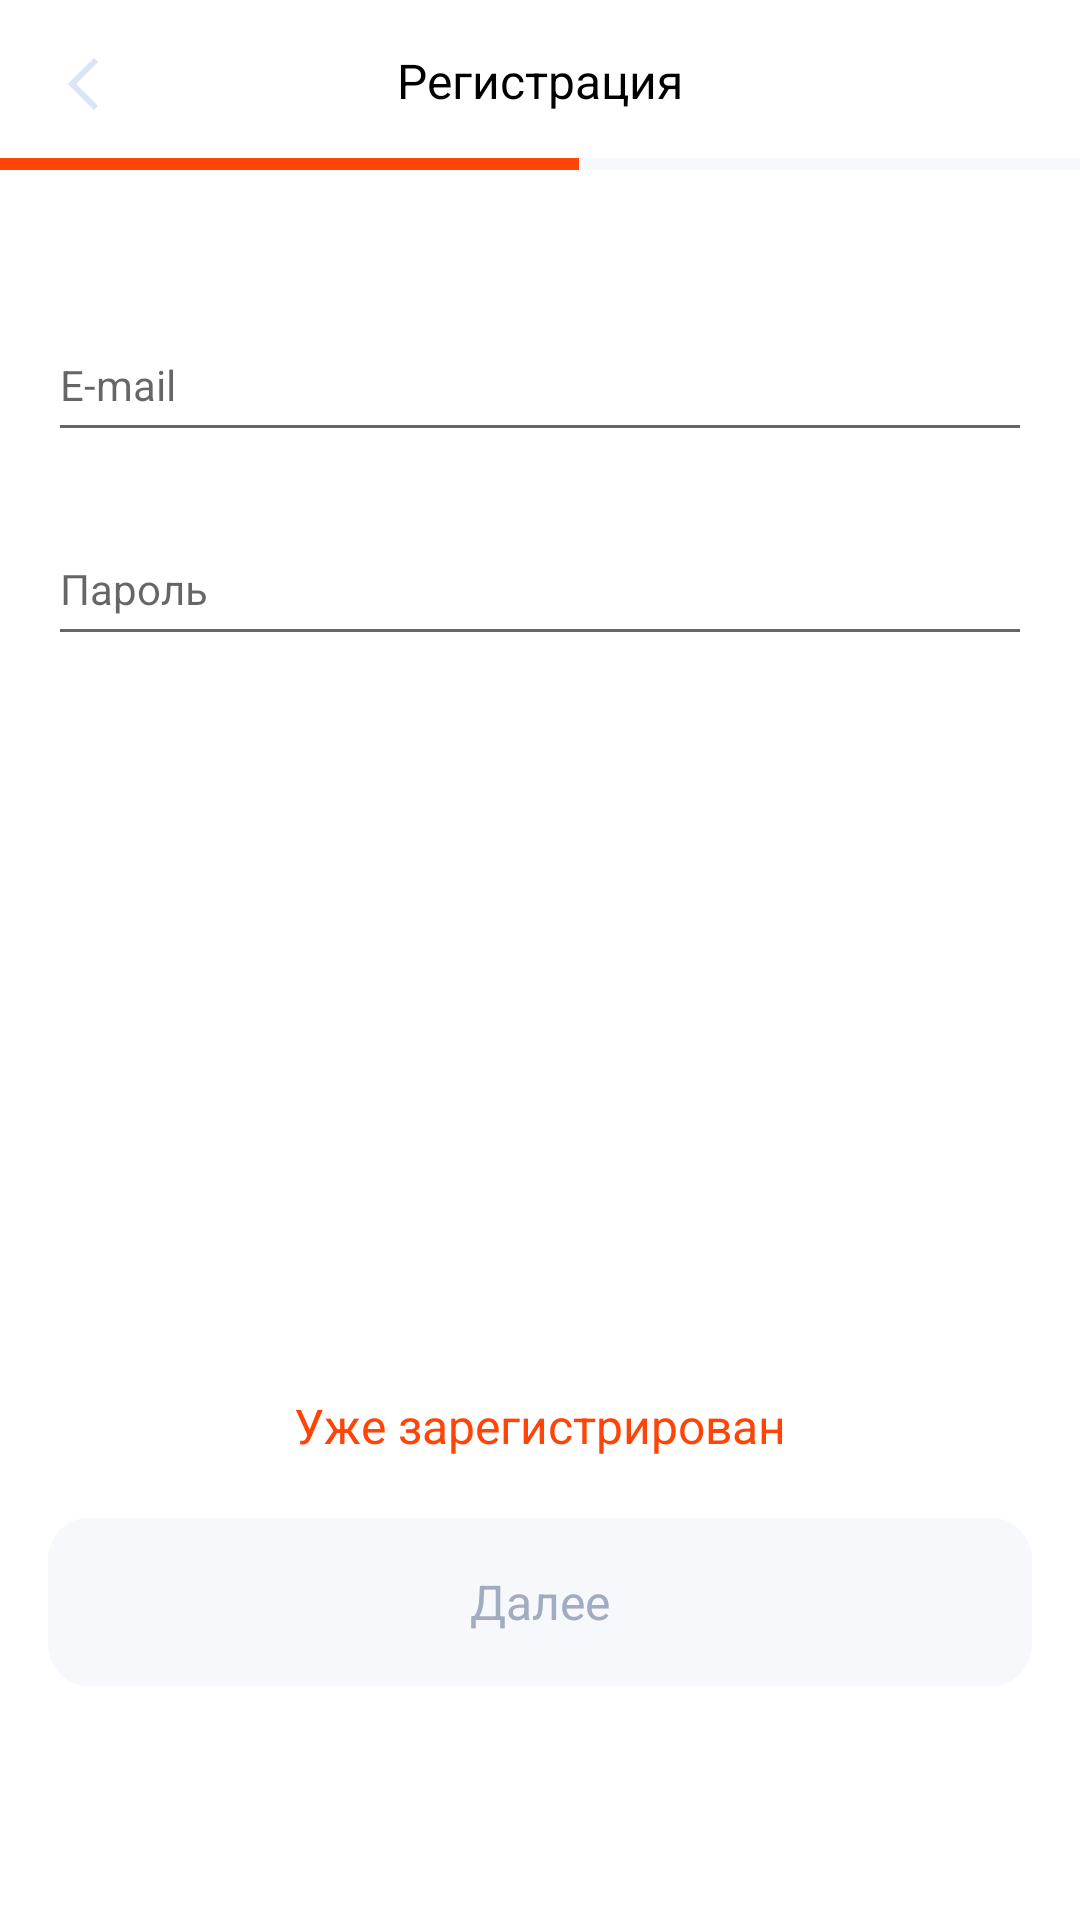

Icons on this 1080px×1920px Android screen, each with the point to tap as [x,y]:
back arrow: [82,84]
